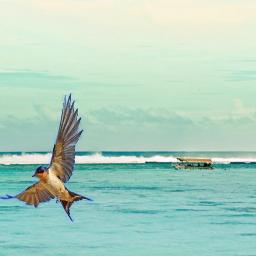Swallow: (0, 93, 94, 222)
